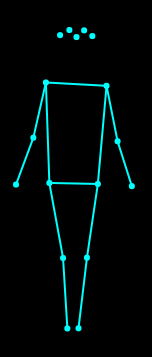mountain: (9, 24, 139, 338)
